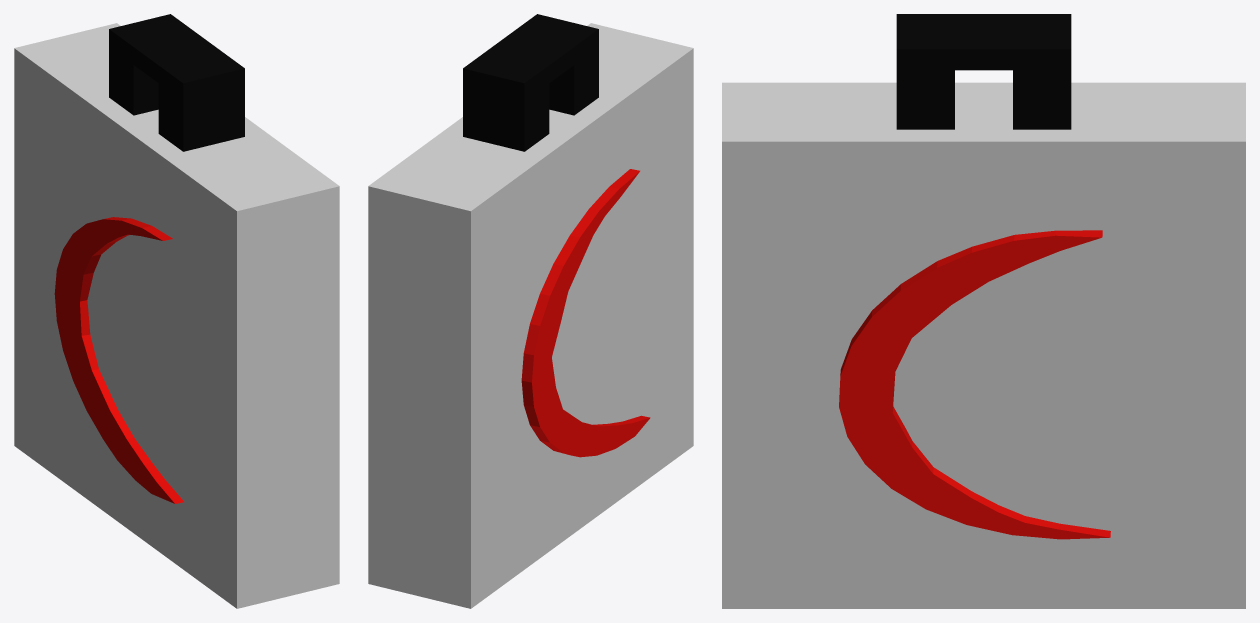
Rendered from health bulan.fbx.
The picture shows the model from 3 angles, left to right: view 1: azimuth 30°, elevation 25°; view 2: azimuth 150°, elevation 25°; view 3: azimuth 270°, elevation 25°; orthographic projection. The views are drawn at different scales.
Visible parts, largest first — view 1: Cube.004, Cylinder; view 2: Cube.004, Cylinder; view 3: Cube.004, Cylinder.001.
Part boxes in pixels (x1,y1,x2,y2): Cube.004: (14,14,339,608); Cylinder: (54,217,183,503); Cube.004: (368,14,693,608); Cylinder: (521,169,650,457); Cube.004: (722,14,1245,608); Cylinder.001: (839,230,1110,539).
Size of the model in its own units: 52.25 by 177 by 153.
